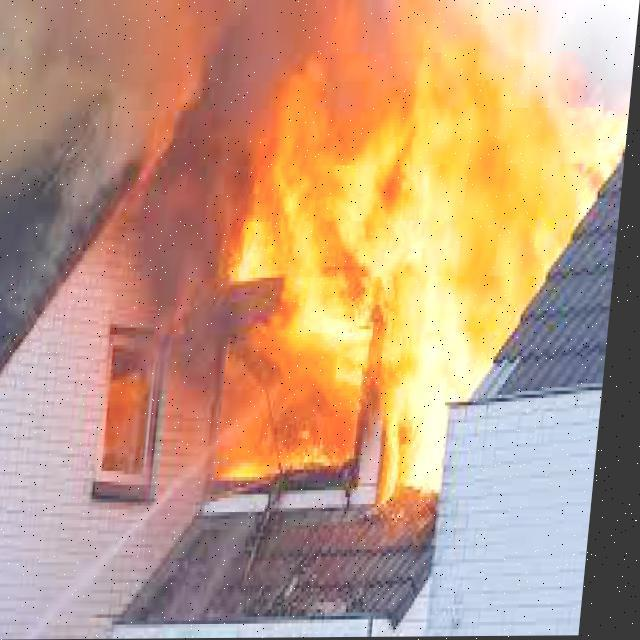Fire: (136, 25, 585, 478)
